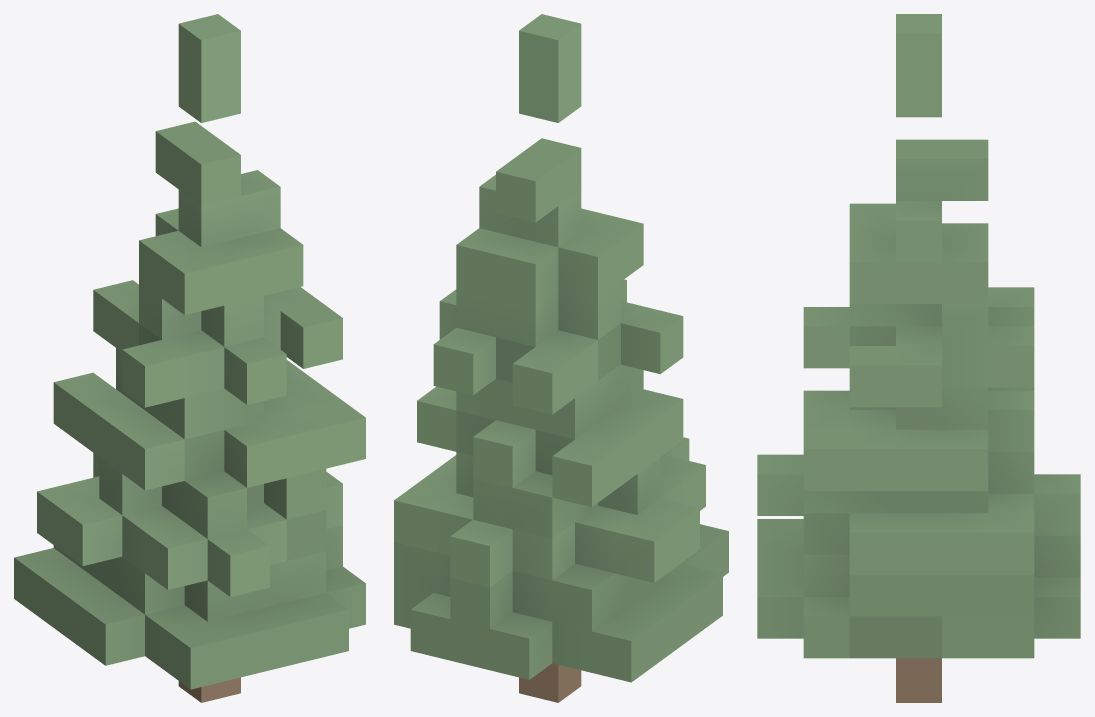
Rendered from tree_plot.v0.glb.
The picture shows the model from 3 angles, left to right: view 1: azimuth 30°, elevation 25°; view 2: azimuth 150°, elevation 25°; view 3: azimuth 270°, elevation 25°; orthographic projection.
Visible parts, largest first — view 1: tree_plot; view 2: tree_plot; view 3: tree_plot.
Boxes of the visible parts, x1,y1,x2,y2 form: tree_plot: (14, 14, 365, 702); tree_plot: (394, 14, 728, 702); tree_plot: (757, 14, 1080, 702).
Bounding box in the file's own units: 0.75 × 2 × 0.875.
